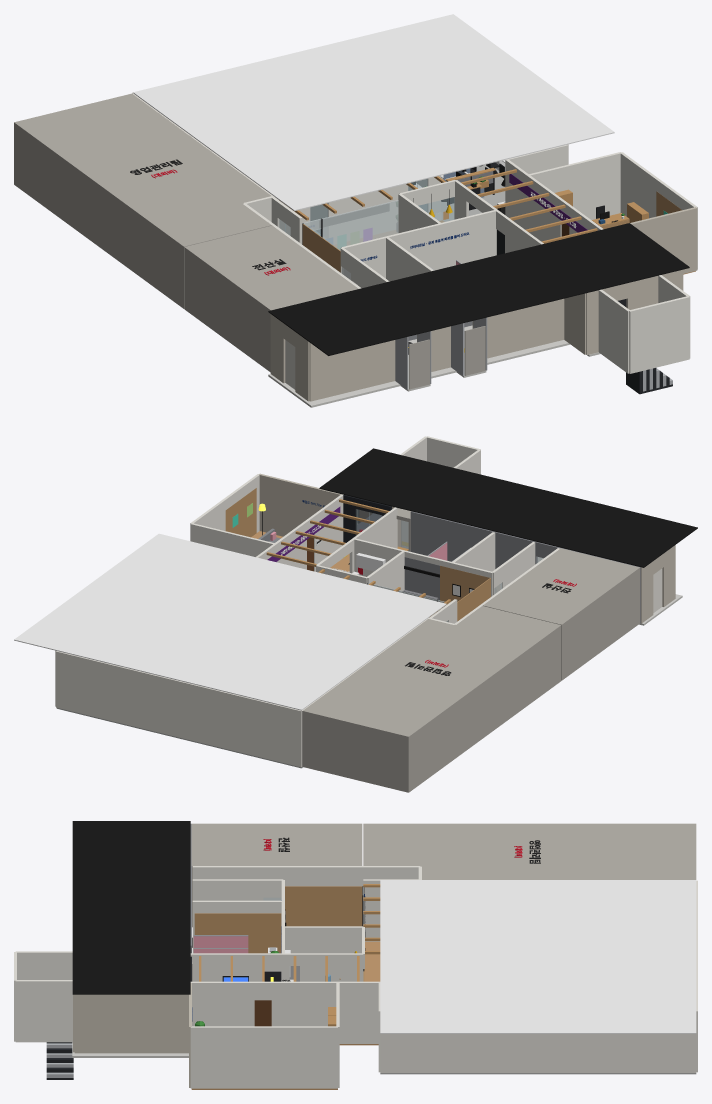
File: floor_6f.glb
The picture shows the model from 3 angles, top to bottom: view 1: azimuth 30°, elevation 25°; view 2: azimuth 150°, elevation 25°; view 3: azimuth 270°, elevation 25°; orthographic projection. The views are drawn at different scales.
Visible parts, largest first — view 1: Ceiling_Offices, Confidential_Sales_Team_Block_N, Ceiling_Hall_BlackGrid, Confidential_IT_Room_Block, Confidential_Sales_Team_Block_S, Stair_6F_South_Wall, Corridor_South_Wall_1, Psych_Room_North_Wall, Corridor_South_Wall_5, Pantry_South_Wall, Meeting_A_Glass_W, NorthBand_South_Wall (+26 smaller); view 2: Ceiling_Offices, Confidential_Sales_Team_Block_N, Ceiling_Hall_BlackGrid, Confidential_IT_Room_Block, Office2_North_Wall, Office1_North_Wall, Confidential_Sales_Team_Block_S, Gray_Brick_Wall_3, Hall_North_Wall_E, Psych_Room_North_Wall, Psych_Room_East_Wall, Corridor_Wall_E_1 (+14 smaller); view 3: Ceiling_Offices, Ceiling_Hall_BlackGrid, Confidential_Sales_Team_Block_N, Office1_East_Wall, Psych_Room_East_Wall, Confidential_IT_Room_Block, Elev_Wall, Corridor_Wall_E_3, WestLink_West_Wall, Stair_6F_East_Wall, Rest_Wood_Panel_West, Corridor_Wall_E_1 (+14 smaller).
Part boxes in pixels (left/top/right/bottom): Ceiling_Offices: left=133, top=14, right=614, bottom=211; Confidential_Sales_Team_Block_N: left=14, top=93, right=270, bottom=286; Ceiling_Hall_BlackGrid: left=268, top=223, right=689, bottom=355; Confidential_IT_Room_Block: left=184, top=225, right=358, bottom=372; Confidential_Sales_Team_Block_S: left=154, top=204, right=271, bottom=308; Stair_6F_South_Wall: left=629, top=296, right=689, bottom=373; Corridor_South_Wall_1: left=309, top=340, right=395, bottom=401; Psych_Room_North_Wall: left=529, top=152, right=621, bottom=219; Corridor_South_Wall_5: left=472, top=298, right=564, bottom=358; Pantry_South_Wall: left=441, top=209, right=496, bottom=268; Meeting_A_Glass_W: left=322, top=200, right=398, bottom=250; NorthBand_South_Wall: left=341, top=223, right=441, bottom=278; Ceiling_Offices: left=14, top=533, right=446, bottom=710; Confidential_Sales_Team_Block_N: left=302, top=619, right=534, bottom=792; Ceiling_Hall_BlackGrid: left=319, top=448, right=697, bottom=567; Confidential_IT_Room_Block: left=483, top=548, right=639, bottom=680; Office2_North_Wall: left=152, top=674, right=301, bottom=766; Office1_North_Wall: left=56, top=651, right=152, bottom=730; Confidential_Sales_Team_Block_S: left=456, top=606, right=561, bottom=700; Gray_Brick_Wall_3: left=410, top=511, right=537, bottom=568; Hall_North_Wall_E: left=259, top=473, right=341, bottom=536; Psych_Room_North_Wall: left=191, top=523, right=274, bottom=556; Psych_Room_East_Wall: left=190, top=474, right=259, bottom=541; Corridor_Wall_E_1: left=312, top=494, right=343, bottom=571; Ceiling_Offices: left=380, top=880, right=696, bottom=1033; Ceiling_Hall_BlackGrid: left=72, top=821, right=190, bottom=994; Confidential_Sales_Team_Block_N: left=420, top=823, right=696, bottom=879; Office1_East_Wall: left=380, top=1034, right=696, bottom=1072; Psych_Room_East_Wall: left=190, top=1026, right=337, bottom=1088; Confidential_IT_Room_Block: left=191, top=823, right=362, bottom=927; Elev_Wall: left=74, top=994, right=188, bottom=1053; Corridor_Wall_E_3: left=271, top=981, right=380, bottom=1043; WestLink_West_Wall: left=192, top=866, right=420, bottom=899; Stair_6F_East_Wall: left=15, top=980, right=72, bottom=1042; Rest_Wood_Panel_West: left=285, top=886, right=362, bottom=926; Corridor_Wall_E_1: left=190, top=981, right=254, bottom=1026.
Size of the model in its own units: 23.8 by 5.25 by 32.45.
